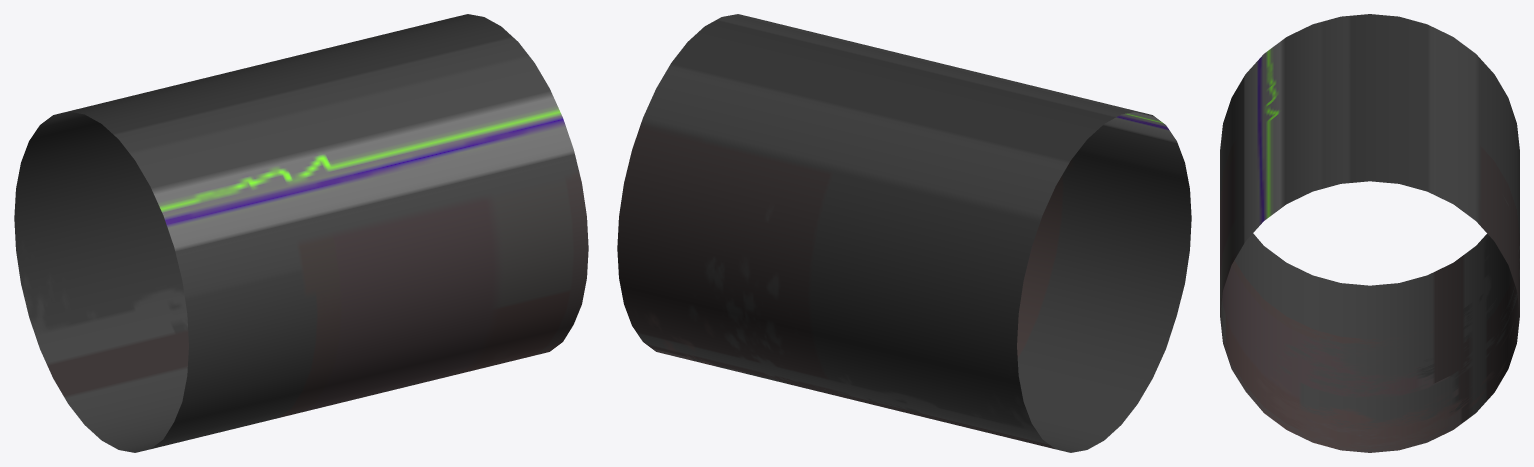
Rendered from SM_Pipe_Small.fbx.
3 renders of one model, left to right at view 1: azimuth 30°, elevation 25°; view 2: azimuth 150°, elevation 25°; view 3: azimuth 270°, elevation 25°, orthographic. The views are drawn at different scales.
Parts seen in each view (by area): view 1: SM_Pipe_Small; view 2: SM_Pipe_Small; view 3: SM_Pipe_Small.
Boxes of the visible parts, x1=… form: SM_Pipe_Small: x1=14, y1=14, x2=588, y2=452; SM_Pipe_Small: x1=617, y1=14, x2=1191, y2=452; SM_Pipe_Small: x1=1220, y1=14, x2=1519, y2=452.
Bounding box in the file's own units: 4 × 3.03 × 3.03.
